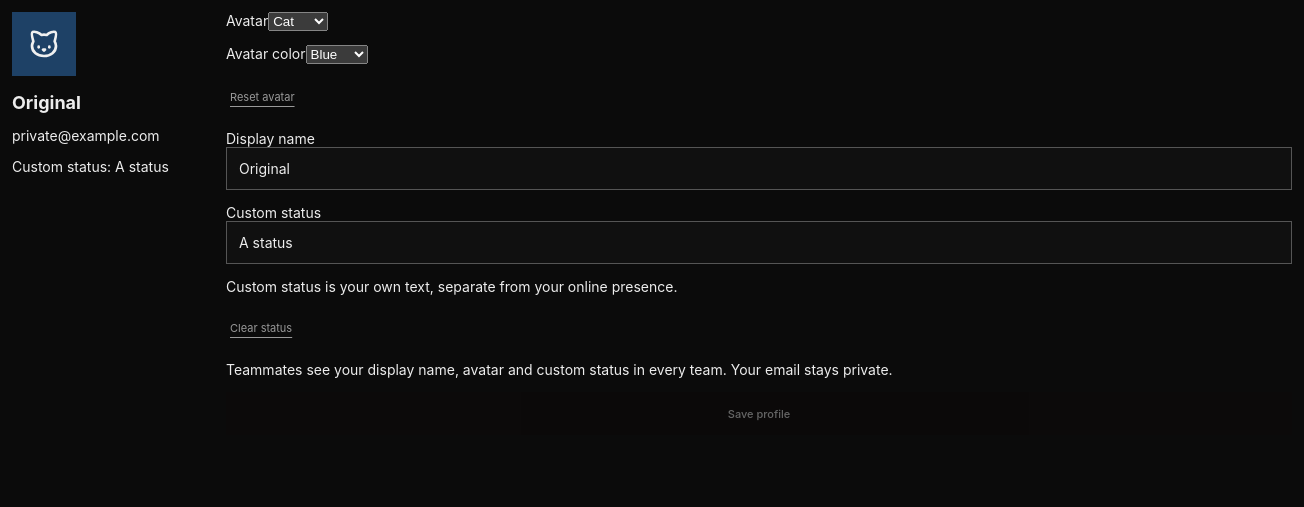
Test: saves bundled avatar reset and status clearing only after a valid account response
The width and height of the screenshot is (1304, 507).
Click the button "Reset avatar" at (262, 97), box x1=226 y1=78 x2=298 y2=116
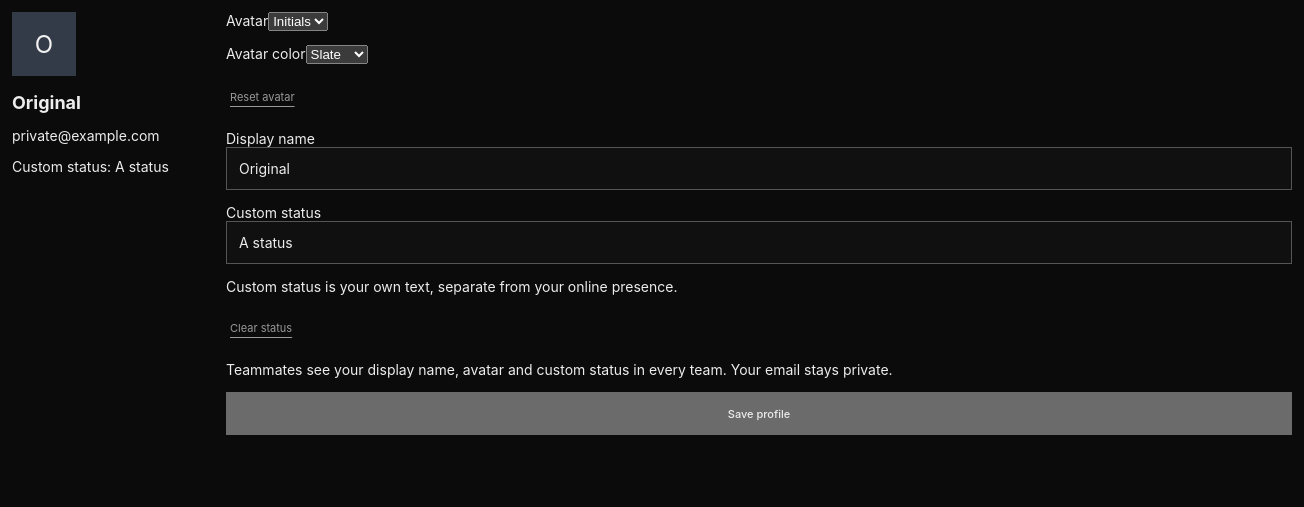
Click the button "Clear status" at (261, 328), box x1=226 y1=309 x2=296 y2=347
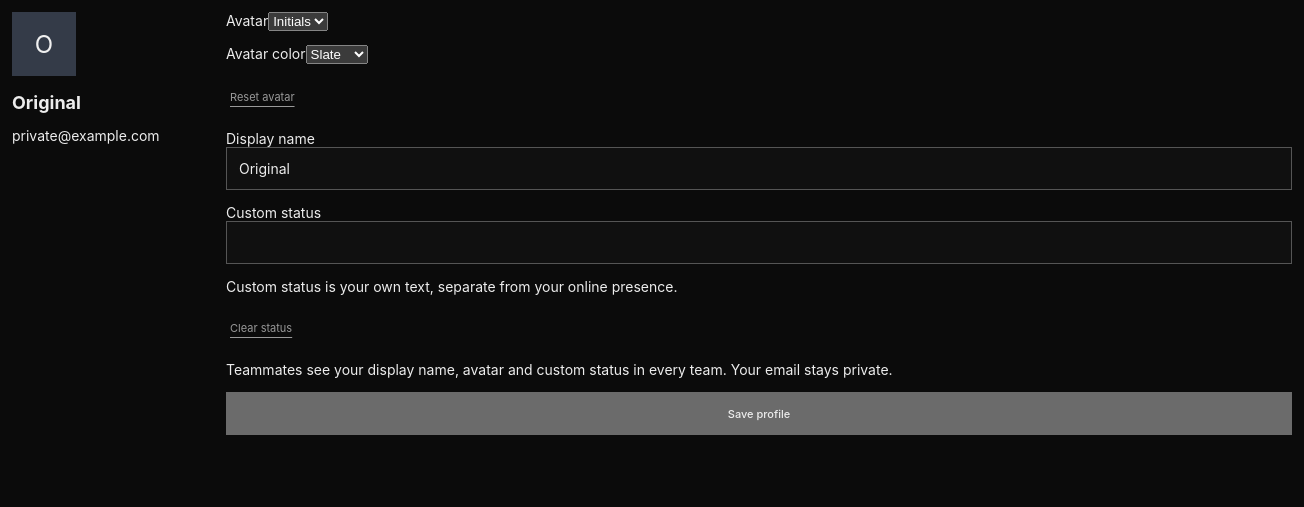
Click the button "Save profile" at (759, 414), box x1=226 y1=392 x2=1292 y2=435
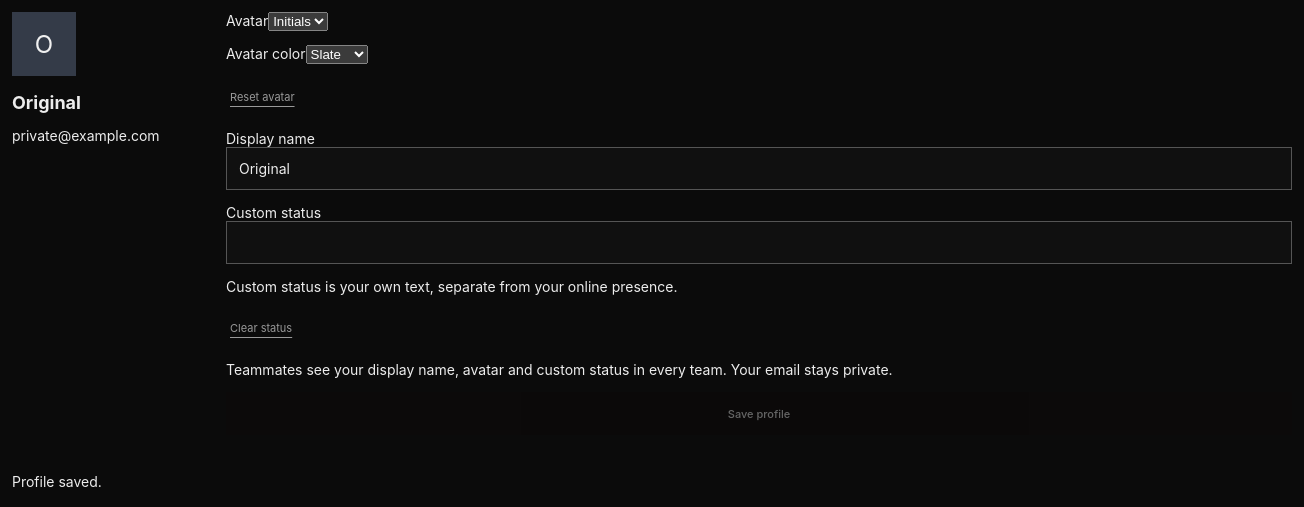
Expected: the text "Profile saved." is shown, x1=12 y1=473 x2=102 y2=490
Expected: the button "Save profile" is disabled, x1=226 y1=392 x2=1292 y2=435
